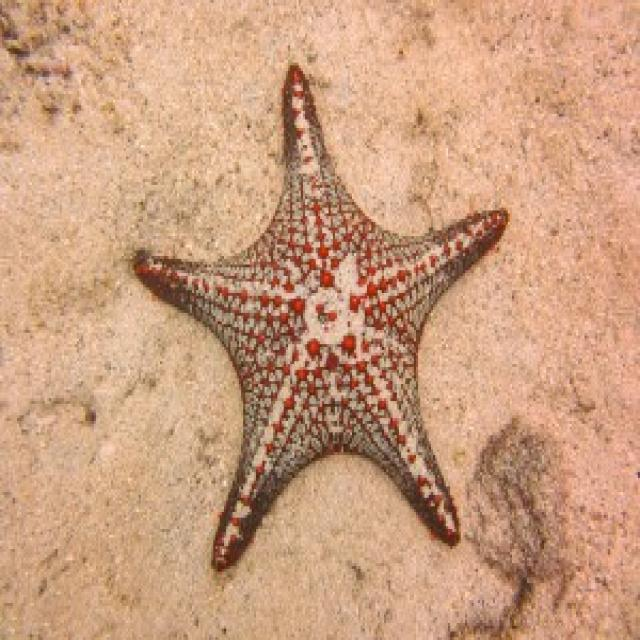Starfish: (132, 54, 515, 584)
